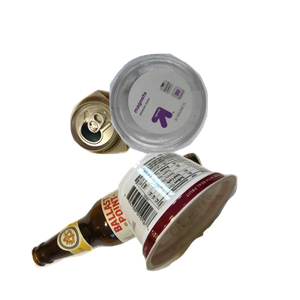glass: (29, 150, 238, 300)
metal: (67, 87, 206, 234)
plastic: (107, 51, 300, 199)
trash: (116, 149, 300, 300)
